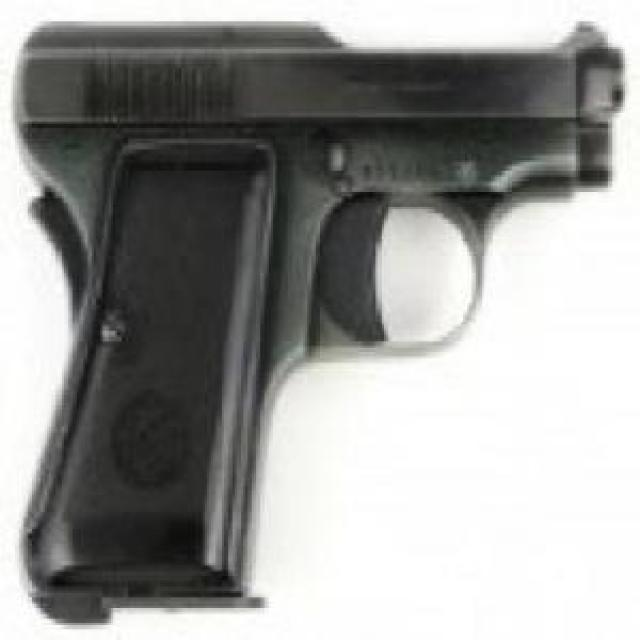pistol: (15, 10, 620, 636)
